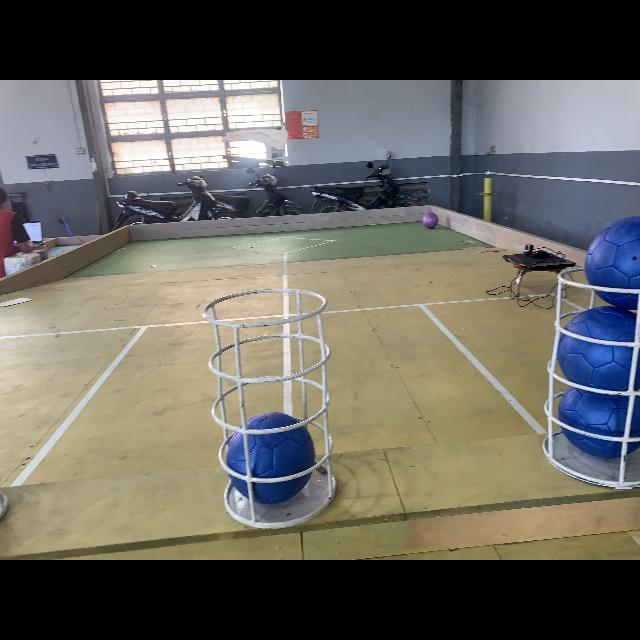B: (226, 413, 314, 505), (558, 306, 640, 396), (560, 384, 640, 462), (584, 215, 640, 307)
